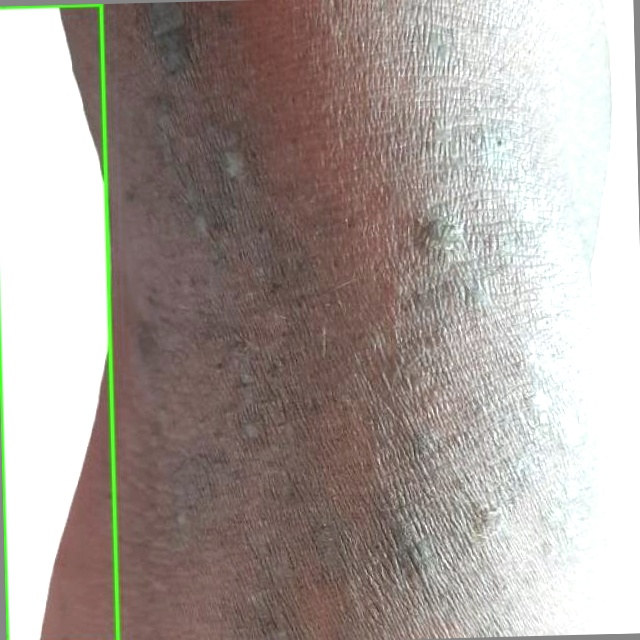Contact Dermatitis: (0, 4, 117, 639)
